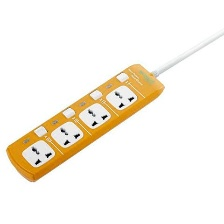three_eye_plug: (5, 61, 166, 182)
